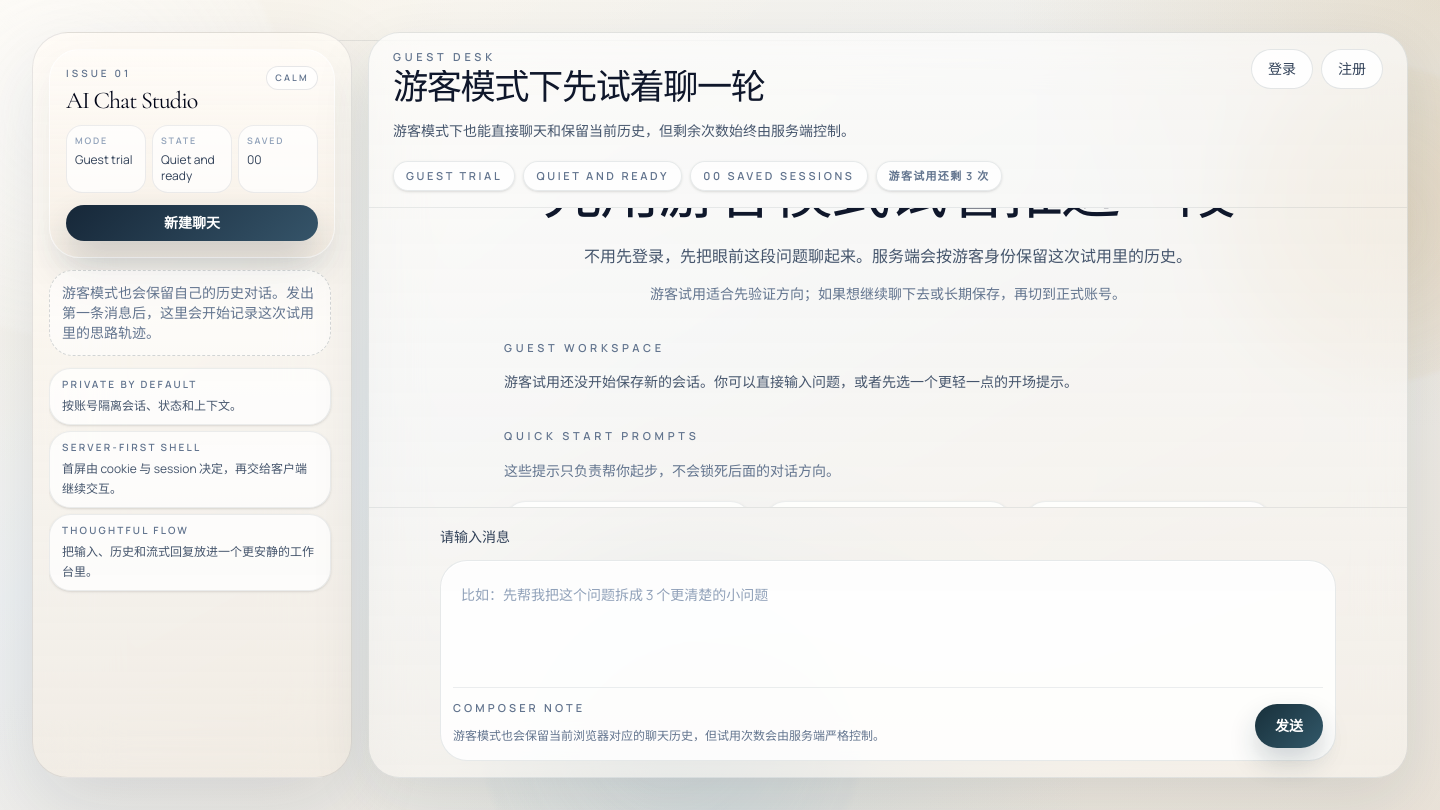
Test: ChatApp › creates local guest UI state after the first anonymous message succeeds
Type "第一次游客消息" into the text box labelled "请输入消息" at (888, 620), box [453,572,1323,668]
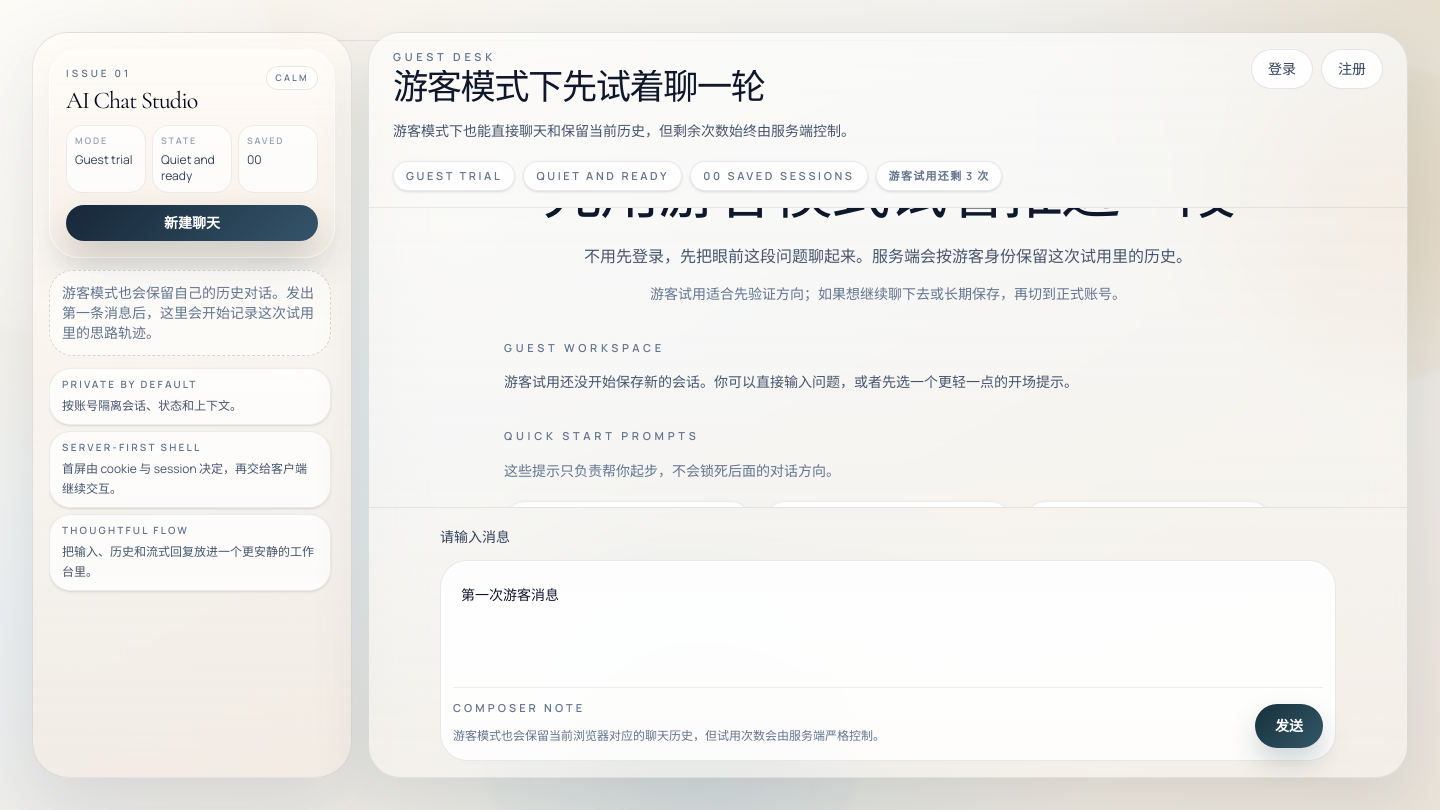
Click the button "发送" at (1289, 726), box [1255,704,1323,748]
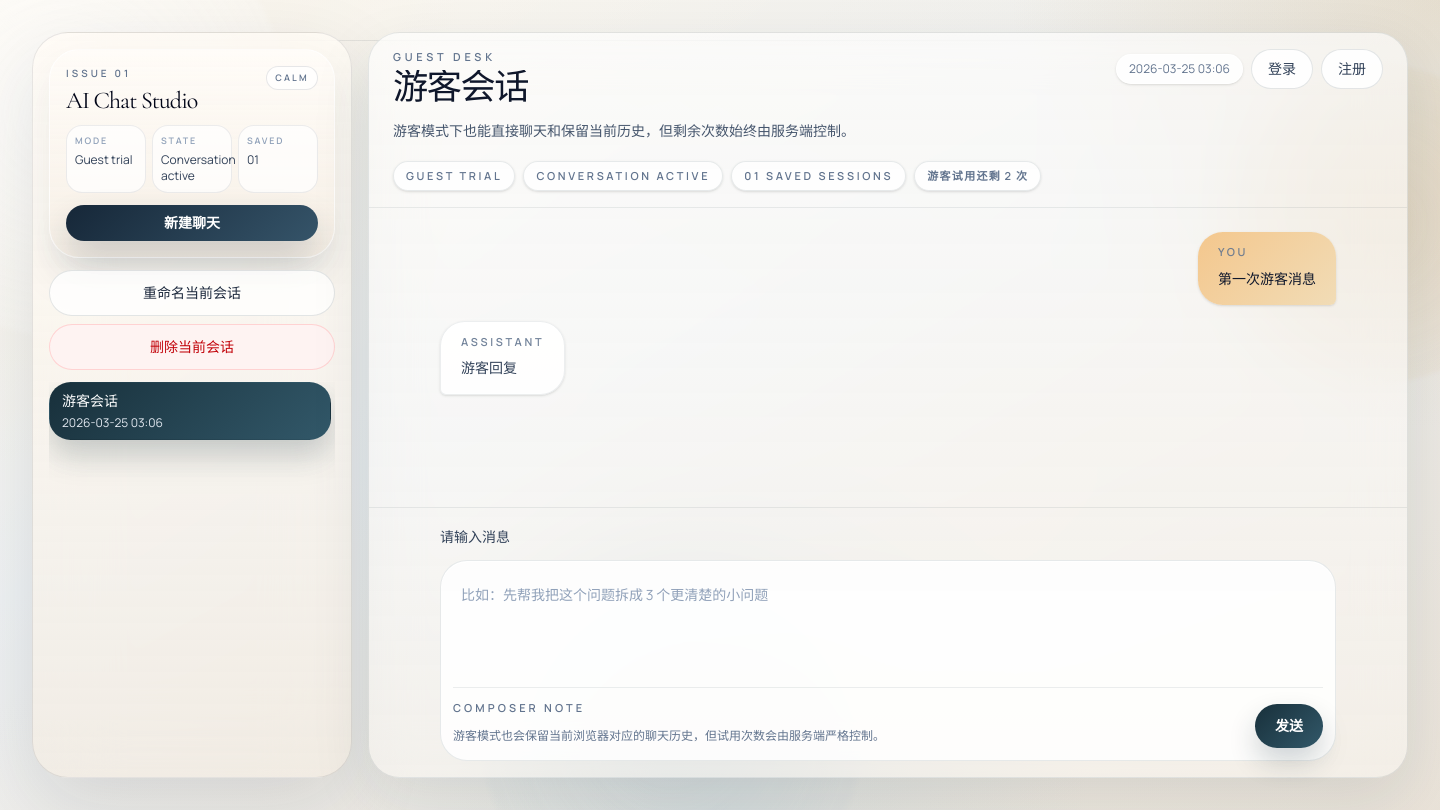
expect the text "游客回复" is shown: met, box [461,358,517,377]
expect the text "游客试用还剩 2 次" is shown: met, box [914,161,1041,191]
